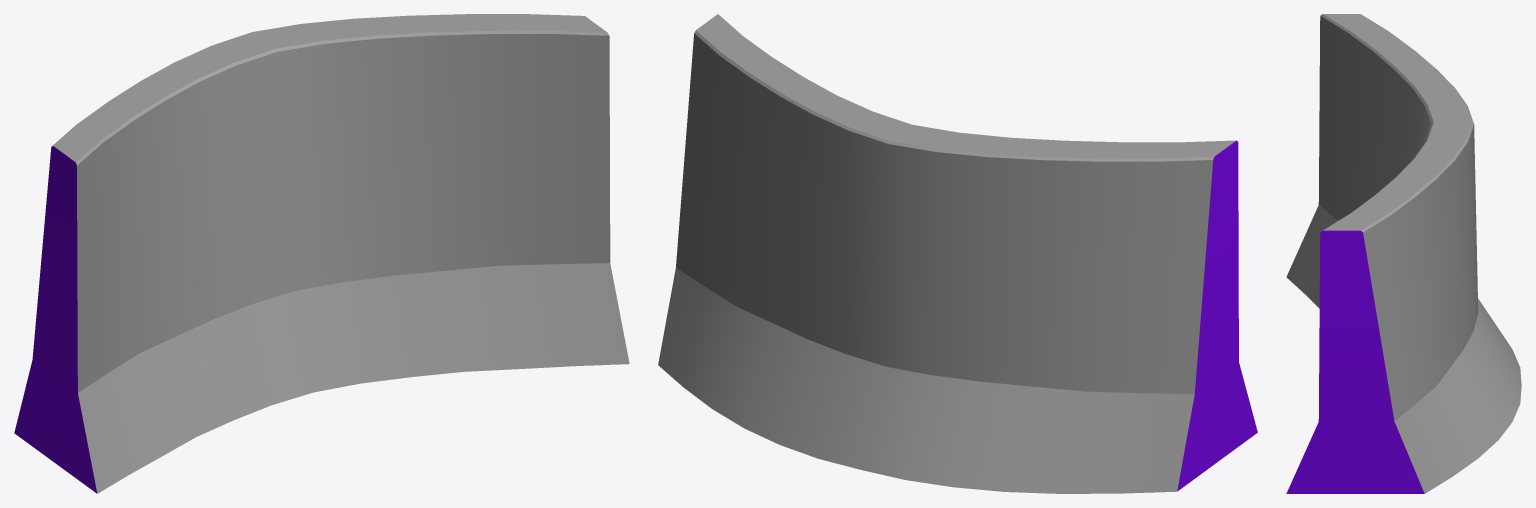
Rendered from Barricade_Concrete_13.fbx.
3 renders of one model, left to right at view 1: azimuth 30°, elevation 25°; view 2: azimuth 150°, elevation 25°; view 3: azimuth 270°, elevation 25°, orthographic. The views are drawn at different scales.
Parts seen in each view (by area): view 1: Obstacle_Barricade_Concrete_13; view 2: Obstacle_Barricade_Concrete_13; view 3: Obstacle_Barricade_Concrete_13.
Part boxes in pixels (box(x1,y1,x2,y2)): Obstacle_Barricade_Concrete_13: box(14, 14, 629, 493); Obstacle_Barricade_Concrete_13: box(658, 14, 1257, 493); Obstacle_Barricade_Concrete_13: box(1286, 14, 1521, 493).
Bounding box in the file's own units: 129 × 72.81 × 58.95.
Materials: 1 (1 with a texture image).
